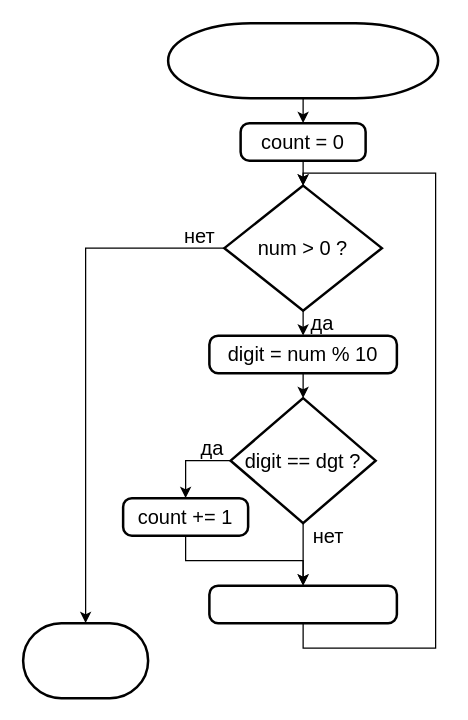
Image size: 468x720. Some labels were removed from this diagram. The shapes that lost their labels are listed below. From the top down, each one's centre as x and y in pixels, then its label:
point 302,60: count_digit(num, dgt)
point 303,604: num //= 10
point 85,660: Возврат count
